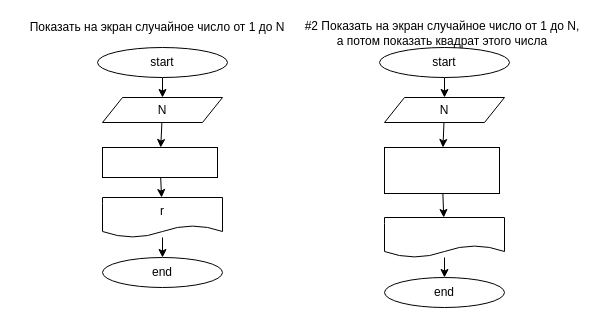
Image size: 599x325. Some labels were removed from this diagram. The centre of each missing label's shape, as x and y in pixels:
r r = random(1,N): the point at 160,162
r r_sqrt: the point at 444,237
r, r_sqrt r = random(1,N) r_sqrt = r * r: the point at 442,170
